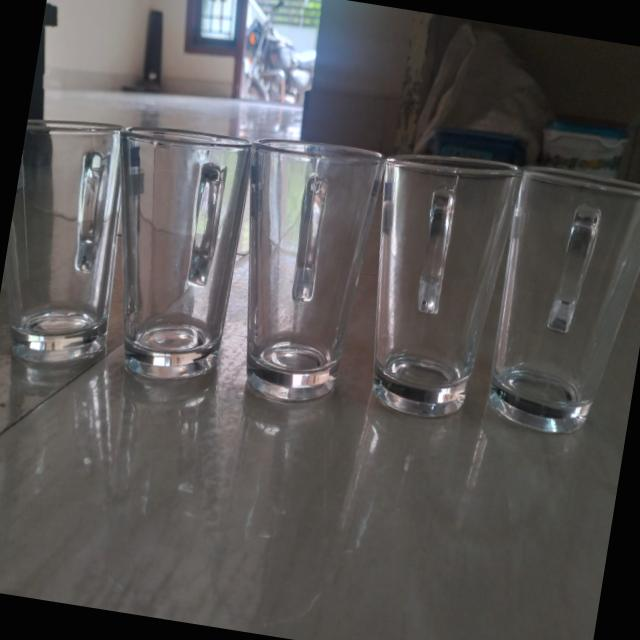glass-VX4N: (344, 145, 521, 431), (212, 133, 390, 416), (478, 162, 640, 447), (84, 120, 253, 382), (0, 112, 141, 369)
